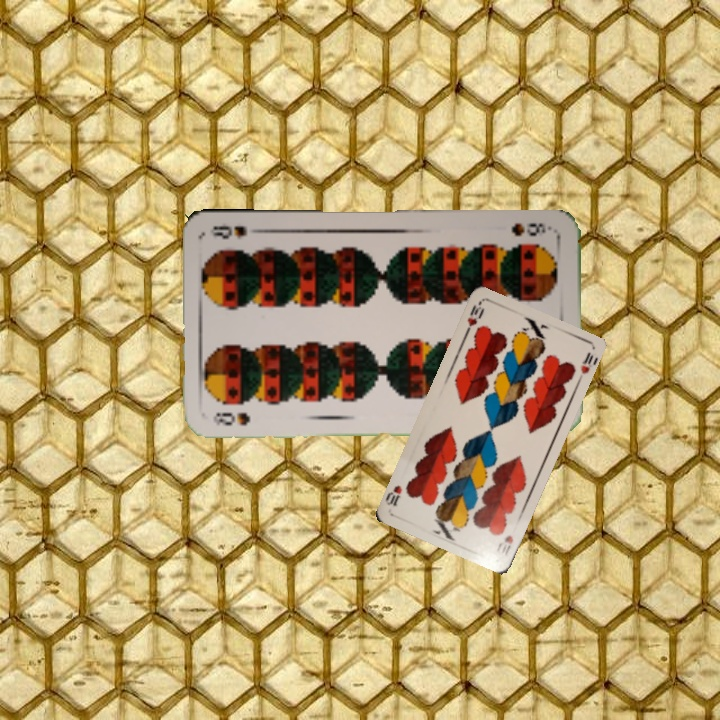H10: (461, 299, 487, 338), (492, 531, 516, 559)
S8: (508, 219, 555, 239), (208, 408, 252, 428)
